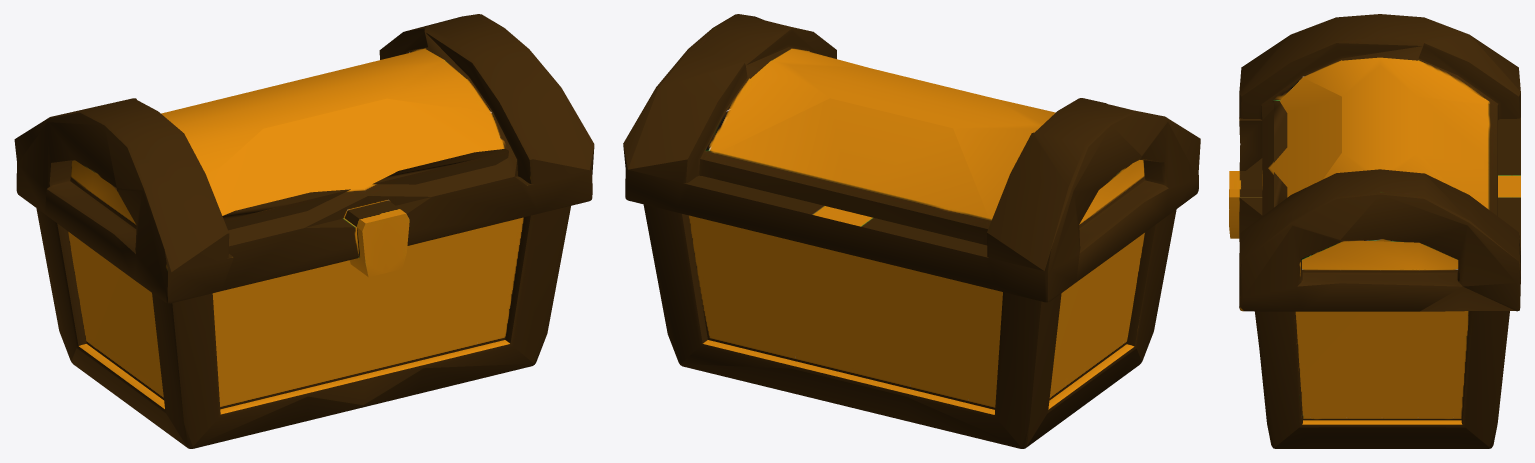
Rendered from 보물상자 2.fbx.
The picture shows the model from 3 angles, left to right: view 1: azimuth 30°, elevation 25°; view 2: azimuth 150°, elevation 25°; view 3: azimuth 270°, elevation 25°; orthographic projection. The views are drawn at different scales.
Visible parts, largest first — view 1: box top, bottom; view 2: box top, bottom; view 3: box top, bottom.
Part boxes in pixels (box(x1,y1,x2,y2)): box top: box(14, 14, 594, 303); bottom: box(36, 206, 570, 448); box top: box(623, 14, 1200, 302); bottom: box(643, 204, 1176, 448); box top: box(1229, 14, 1520, 311); bottom: box(1254, 311, 1509, 448).
Size of the model in its own units: 157 by 102 by 100.
2 materials, 2 textured.
